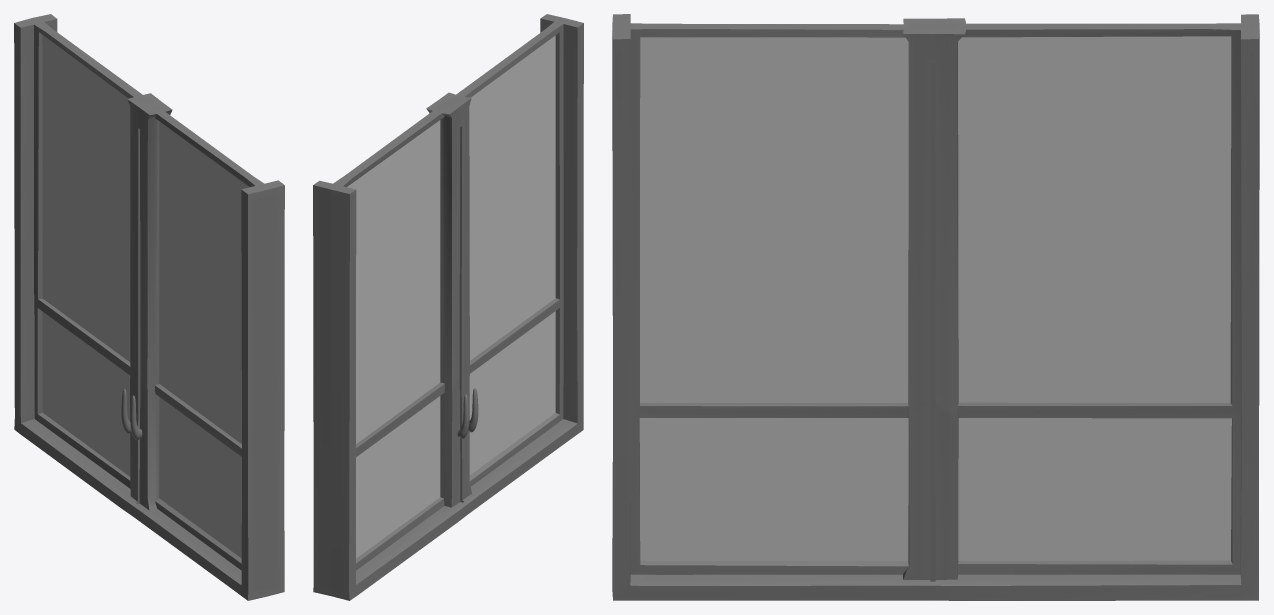
Rendered from SM_Classroom_14.fbx.
3 views of the same model, side by side, from view 1: azimuth 30°, elevation 25°; view 2: azimuth 150°, elevation 25°; view 3: azimuth 270°, elevation 25° (orthographic). The views are drawn at different scales.
Visible parts, largest first — view 1: SM_Classroom_14; view 2: SM_Classroom_14; view 3: SM_Classroom_14.
Part boxes in pixels (x1=…): SM_Classroom_14: x1=14, y1=14, x2=284, y2=600; SM_Classroom_14: x1=313, y1=14, x2=583, y2=600; SM_Classroom_14: x1=612, y1=14, x2=1259, y2=600.
Bounding box in the file's own units: 16.06 × 153 × 146.
